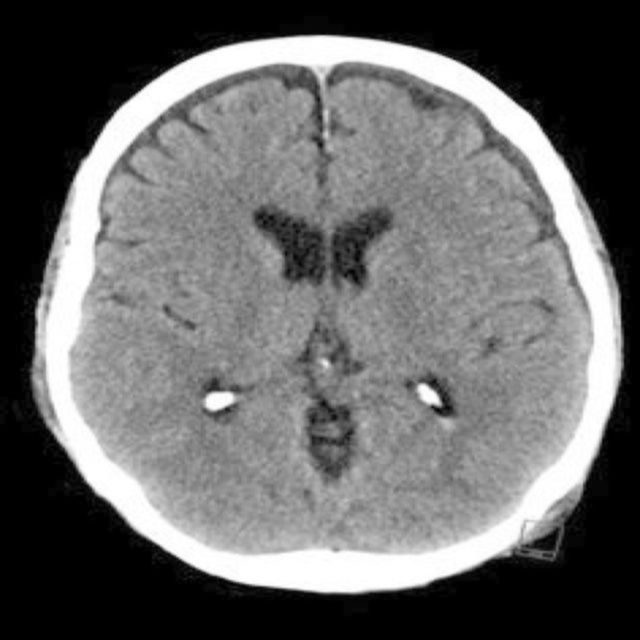glioma tumor: (138, 101, 526, 514)
